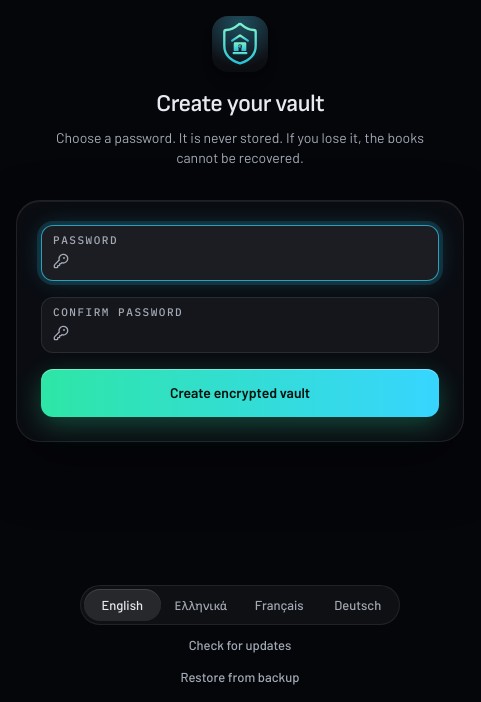
Test: UnlockScreen submit › setup shows confirm field; mismatch uses unlock.passwordsMismatch
Expected: the password field labelled "Confirm password" is shown, [53,321,427,345]
Type "alpha" into the password field labelled "Password" at (240, 261), box [53,249,427,273]
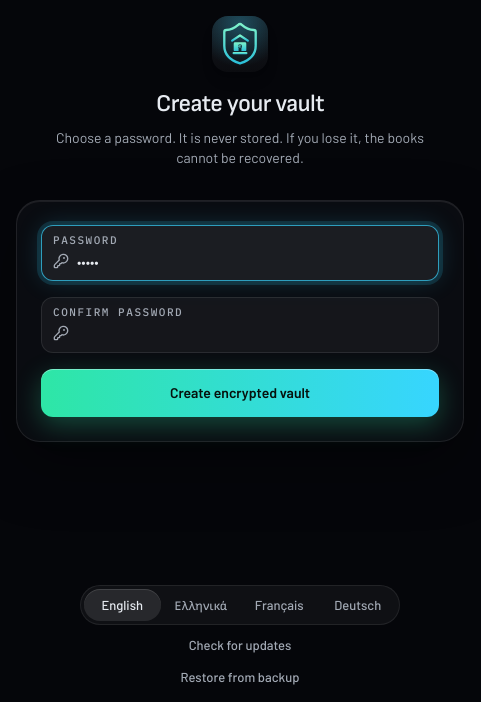
Type "beta" into the password field labelled "Confirm password" at (240, 333), box [53,321,427,345]
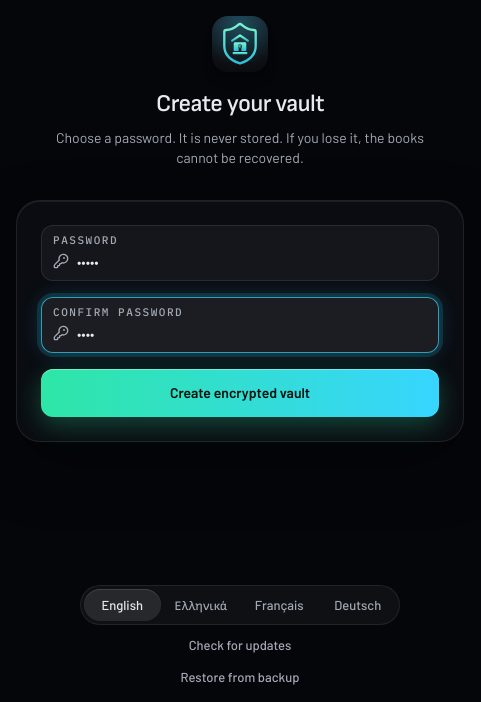
Click the button "Create encrypted vault" at (240, 393), box [41,369,439,417]
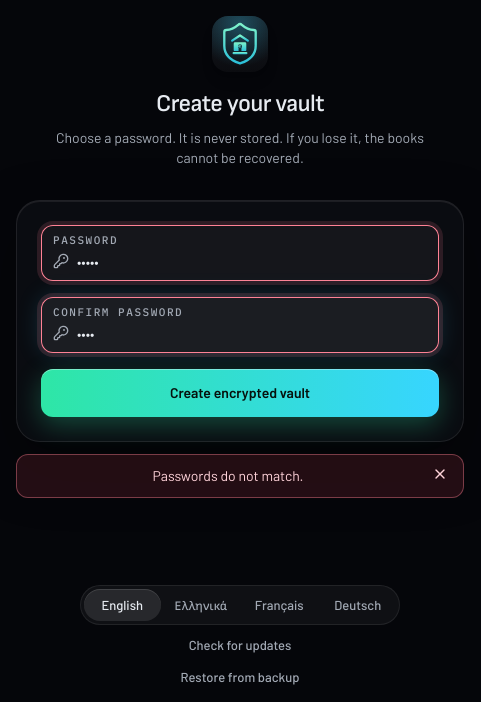
Expected: the text "Passwords do not match." is shown, [153,467,304,484]
